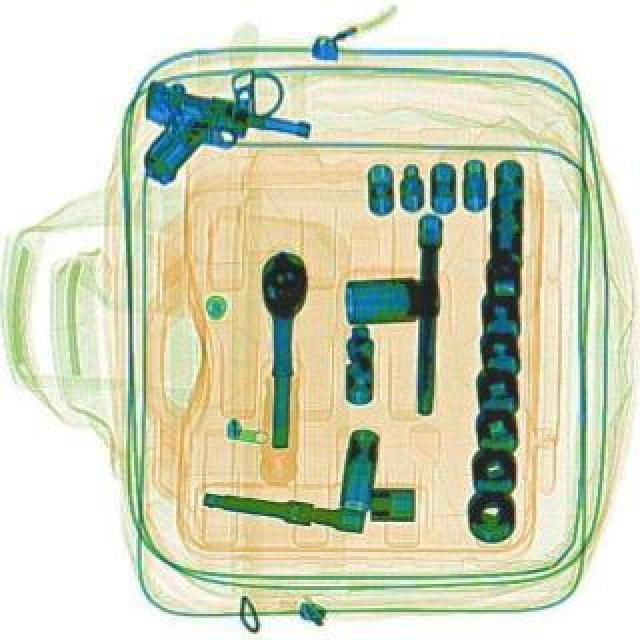gun: (116, 72, 312, 216)
